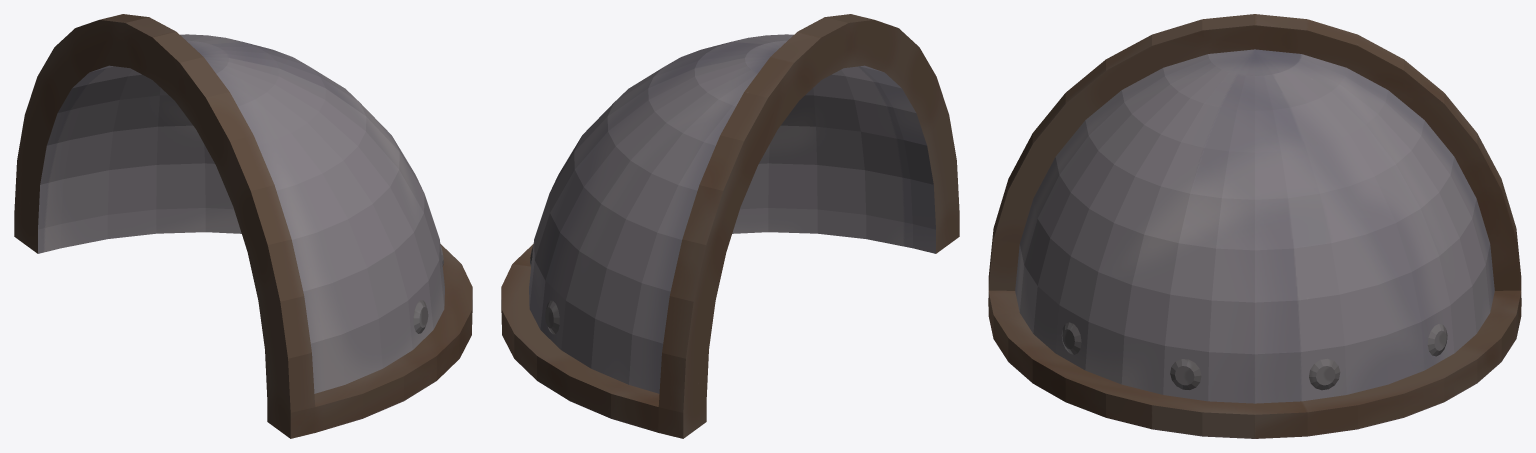
Rendered from ŻelaznyNaramiennik.fbx.
The picture shows the model from 3 angles, left to right: view 1: azimuth 30°, elevation 25°; view 2: azimuth 150°, elevation 25°; view 3: azimuth 270°, elevation 25°; orthographic projection. The views are drawn at different scales.
Parts seen in each view (by area): view 1: Pauldron; view 2: Pauldron; view 3: Pauldron, Cylinder.001, Cylinder.
Boxes of the visible parts, x1=… form: Pauldron: x1=14, y1=14, x2=472, y2=438; Pauldron: x1=501, y1=14, x2=959, y2=438; Pauldron: x1=988, y1=14, x2=1521, y2=438; Cylinder.001: x1=1309, y1=358, x2=1340, y2=390; Cylinder: x1=1170, y1=359, x2=1201, y2=389.
Size of the model in its own units: 120 by 120 by 200.
Materials: 1 (1 with a texture image).
